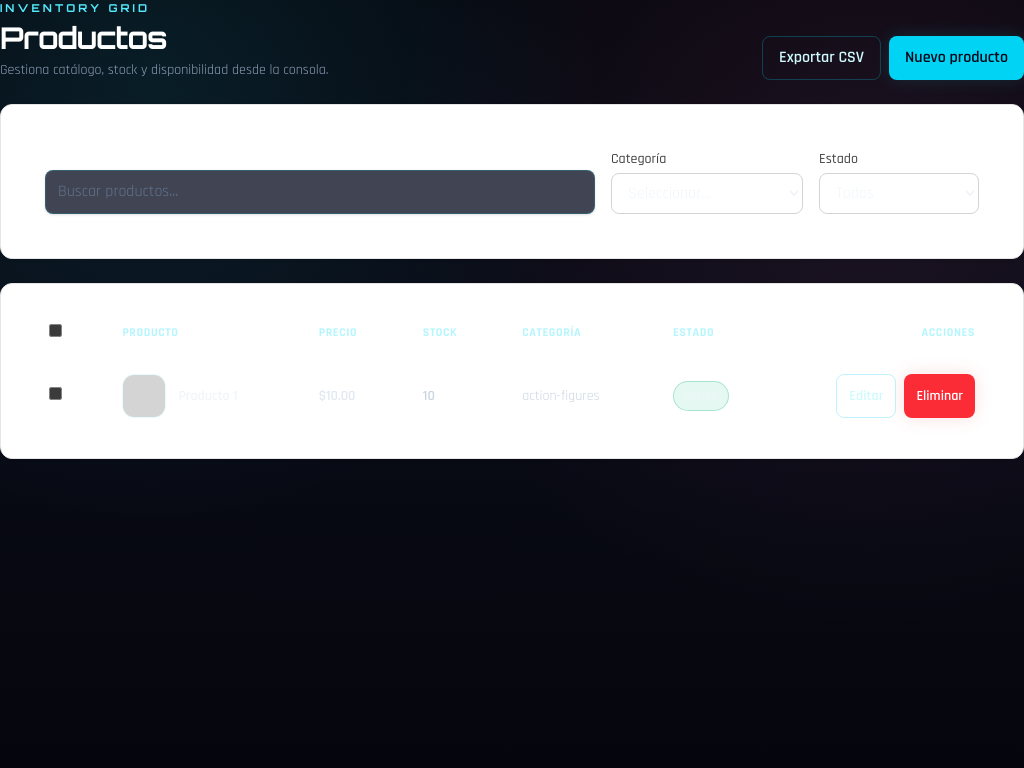
Test: AdminProductsPage › abre modal de confirmacion de eliminacion
Click the button "Eliminar" at {"x": 940, "y": 396}, box [904,374,975,418]
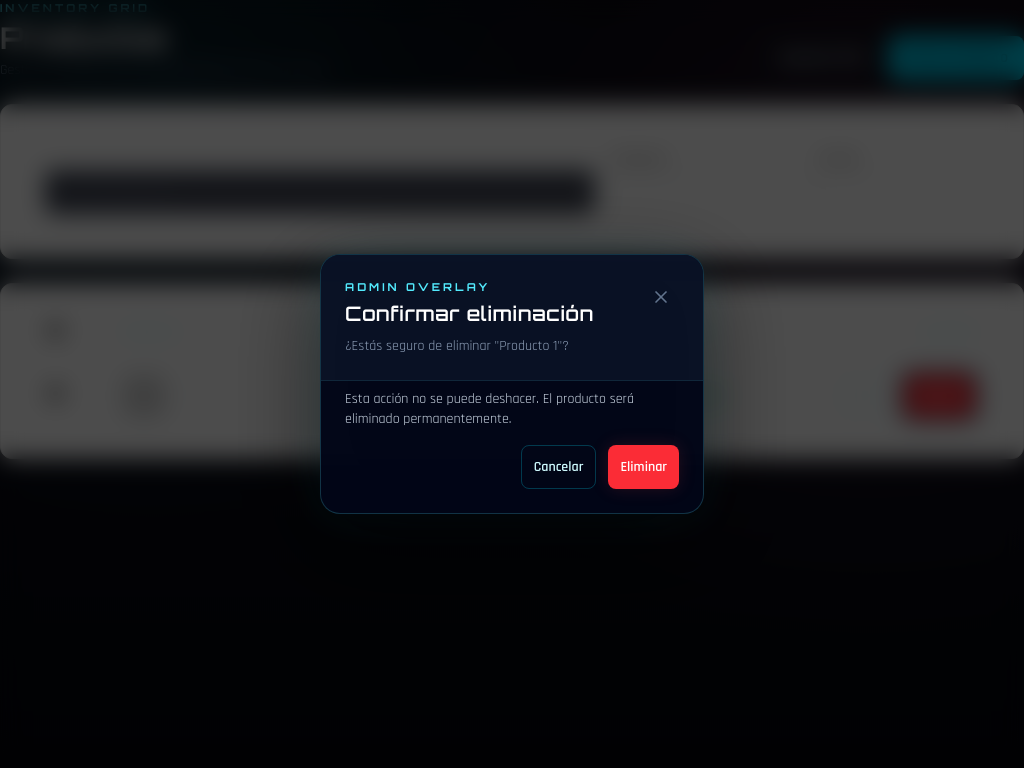
expect the heading "Confirmar eliminación" is shown: met, box [345,300,627,328]
